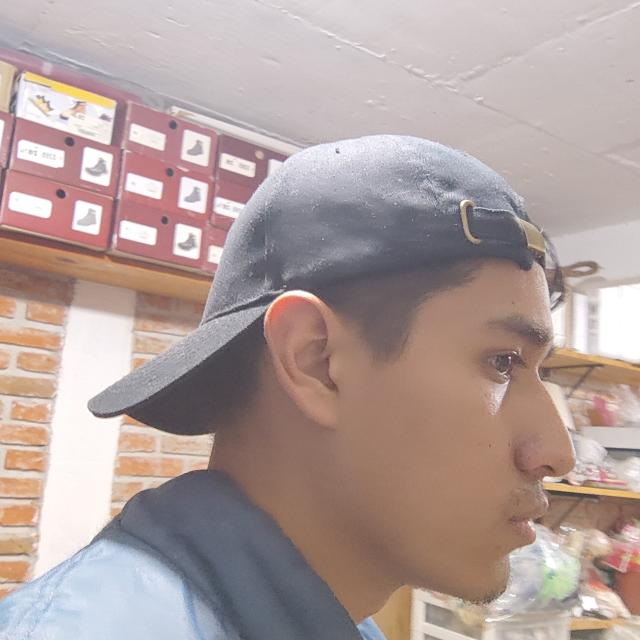ear: (264, 290, 345, 429)
